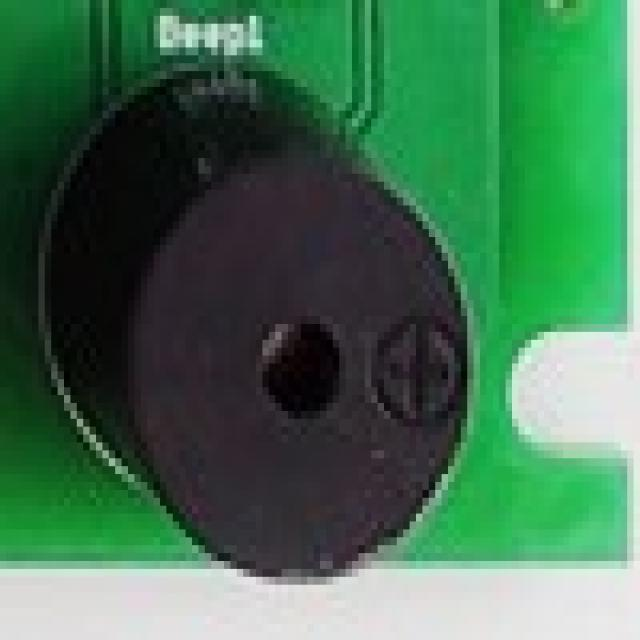buzzer: (59, 61, 469, 609)
